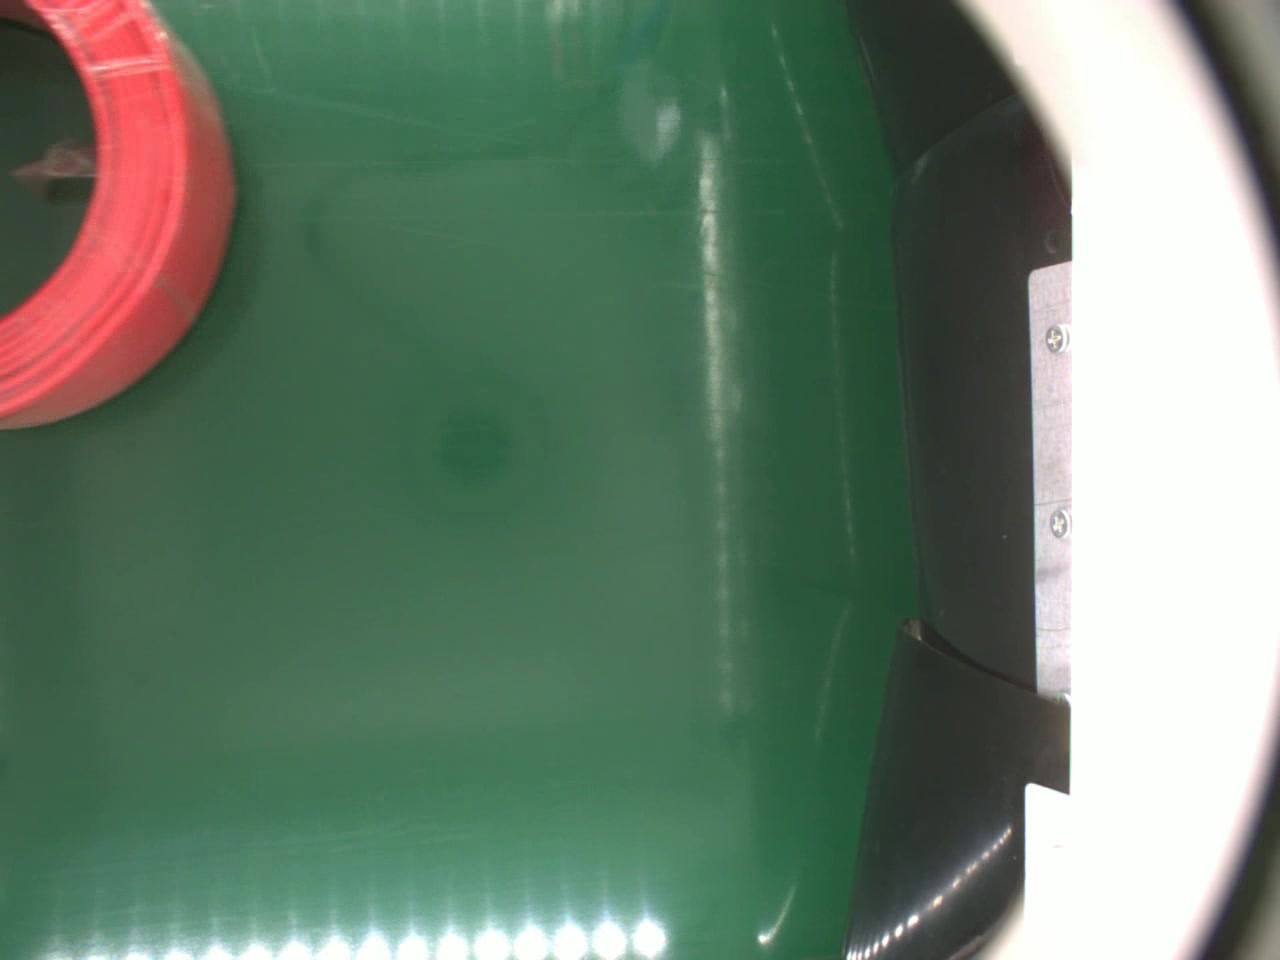red: (0, 0, 246, 436)
